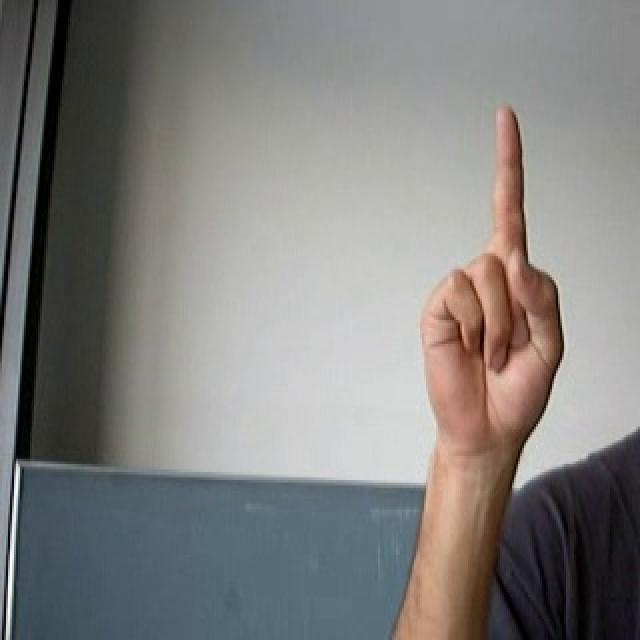D: (399, 88, 581, 449)
